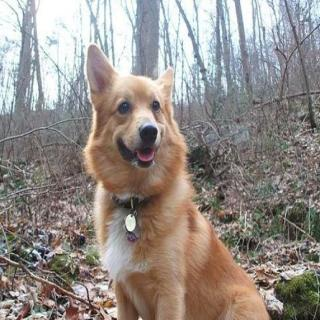dog: (80, 34, 188, 192)
nose: (138, 120, 160, 145)
